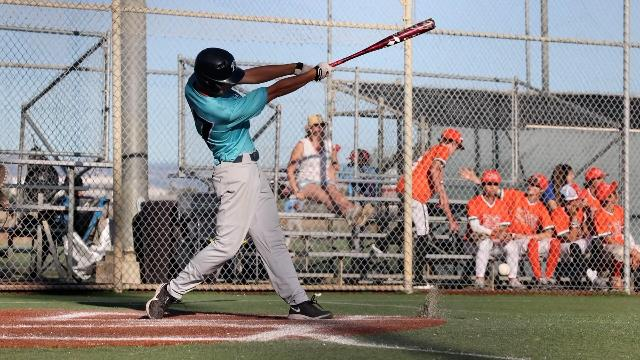baseball bat: (330, 18, 438, 66)
sports ball: (498, 262, 510, 278)
